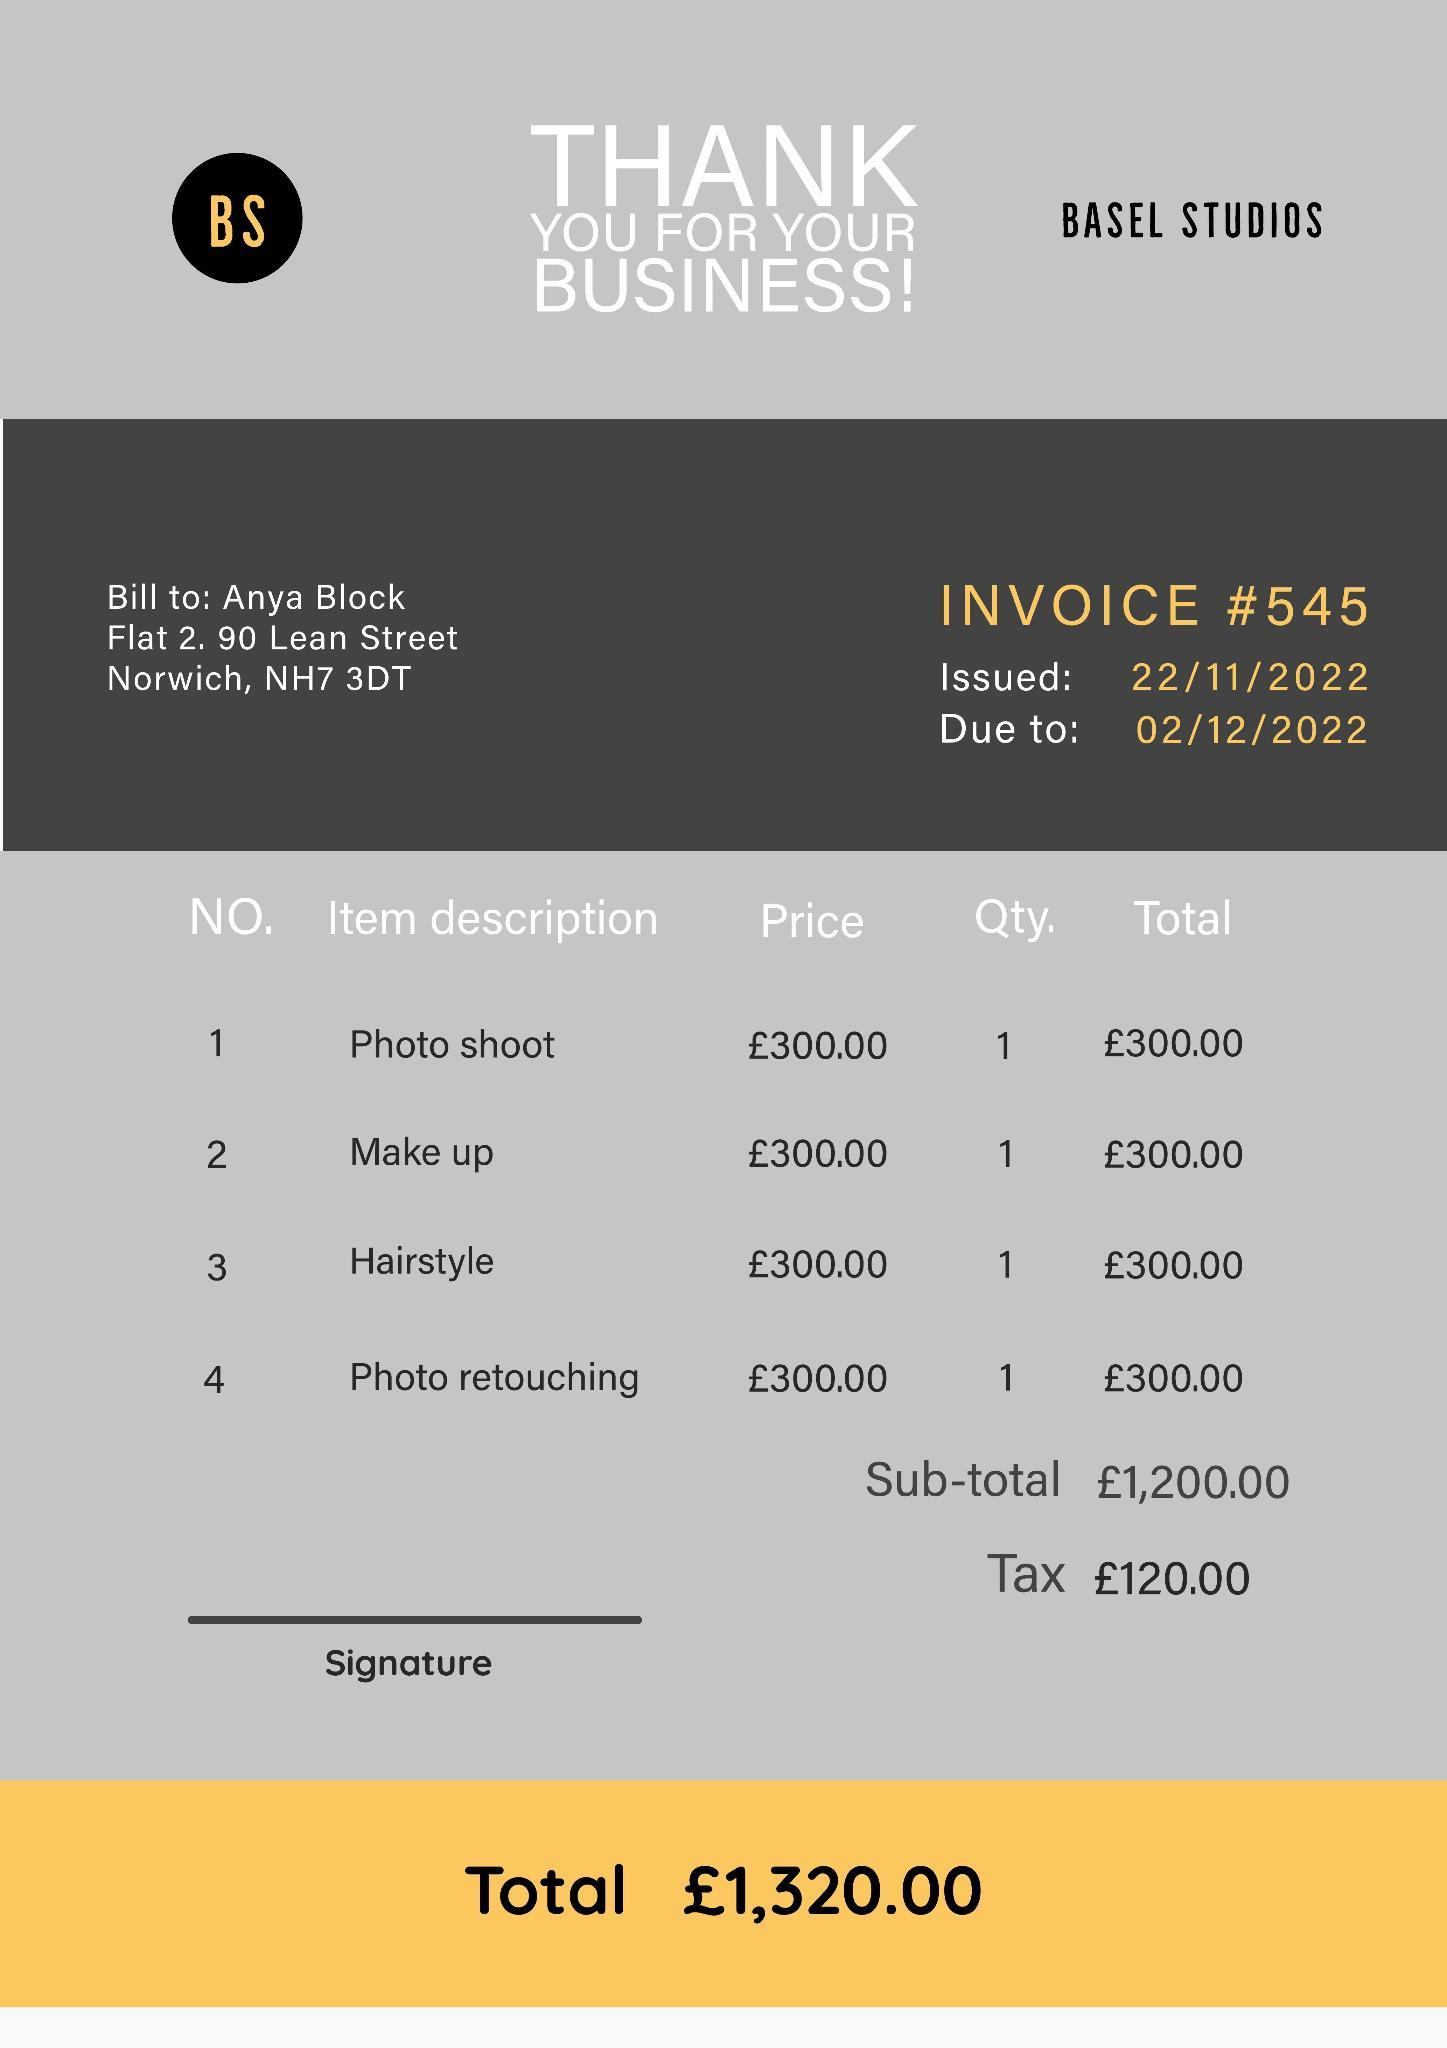ROI: (152, 877, 1374, 1402), (916, 544, 1397, 791), (509, 96, 951, 337), (835, 1448, 1329, 1627), (89, 548, 480, 733), (449, 1840, 1015, 1955), (1056, 183, 1361, 250), (306, 1647, 508, 1693), (204, 187, 264, 250)
